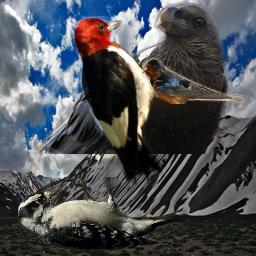Crow: (34, 0, 232, 154)
Swallow: (142, 58, 244, 104)
Woodpecker: (72, 16, 176, 187), (18, 177, 184, 251)
